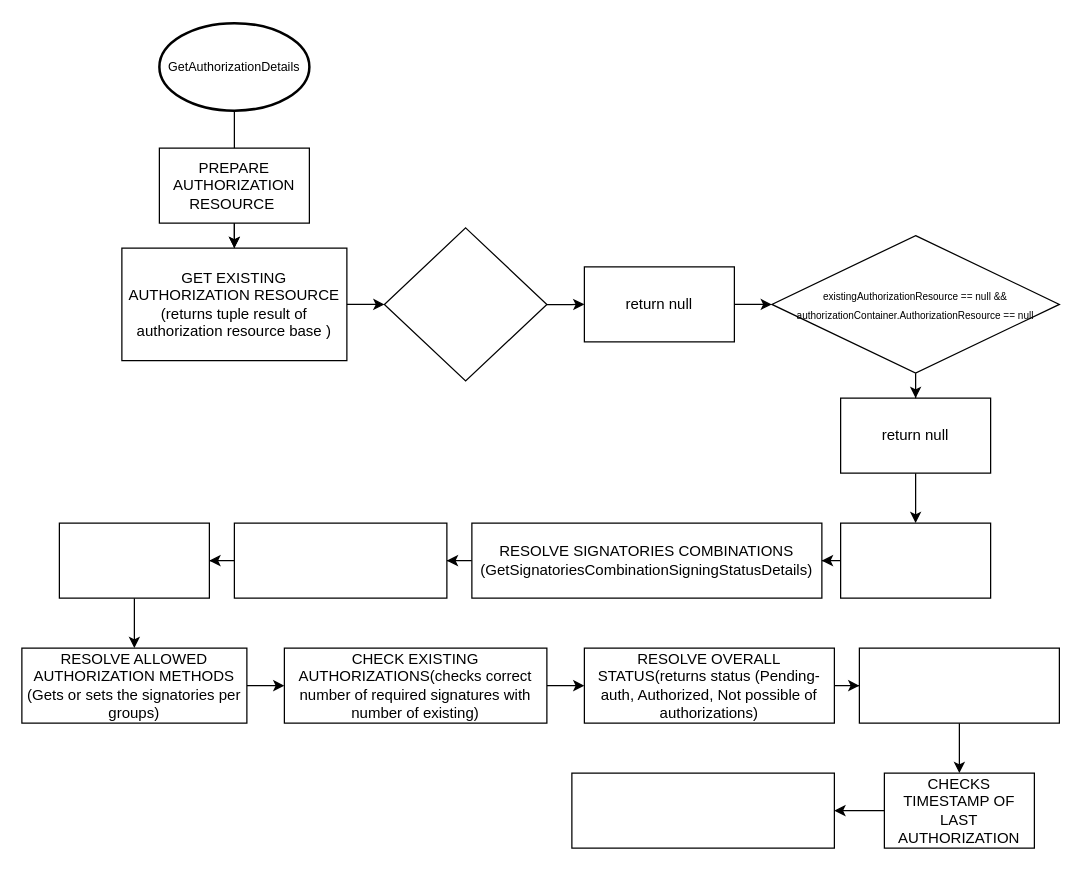
Some shapes in this 1081 by 870 pixel diagram are drawn without their labels. Here are the shapes that lost their labels. From the top down, the centre of each, then its label:
point 465,304: authorizationContainer == null
point 133,560: return signingModels
point 340,560: AuthorizationContextExtensions. GetSigningModels
point 915,560: SINGLE AUTHORIZATION RESOURCE
point 958,685: CHECK IS AUTHORIZABLE BY CURRENT USER(checks is it authorizable by current user)
point 702,810: return AdditionalAuthorizationStatusDetails
